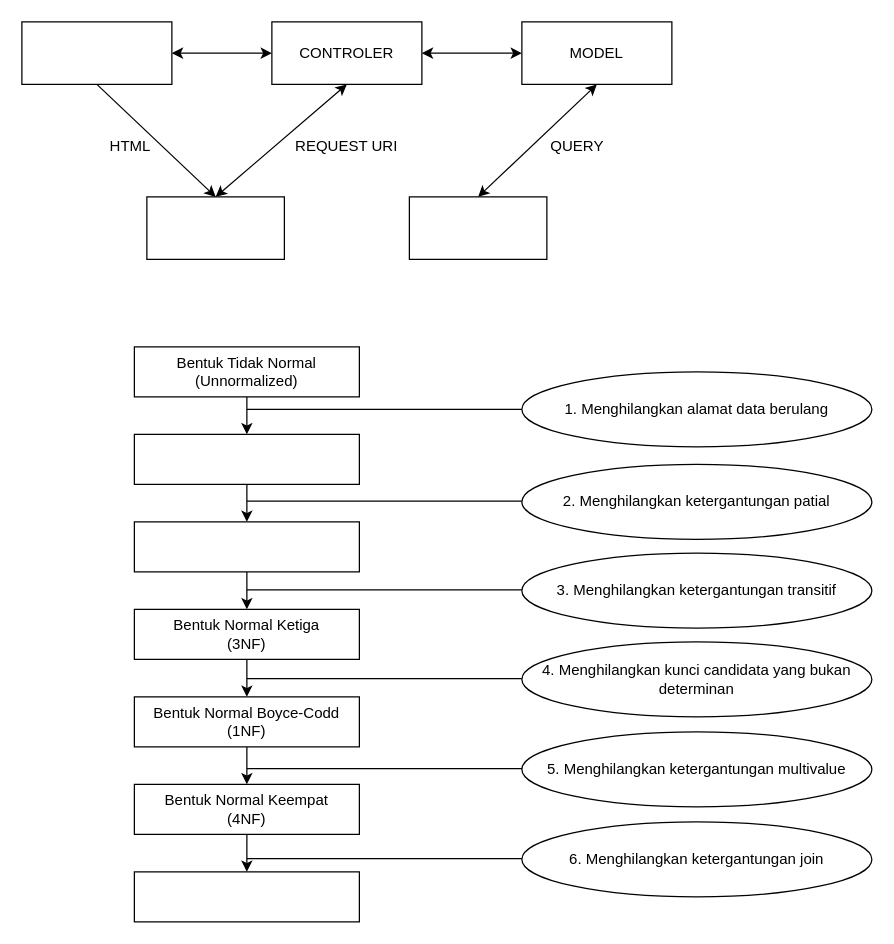
Image size: 894x944. Some labels were removed from this diagram. The centre of each missing label's shape, as x and y in pixels:
"Bentuk Normal Kedua (2NF)" belongs at point 246,546.
"Bentuk Normal Kelima (5NF)" belongs at point 246,896.
"Bentuk Normal Pertama (1NF)" belongs at point 246,458.
"BROWSER" belongs at point 215,227.
"DATABASE" belongs at point 477,227.
"VIEW" belongs at point 96,52.
